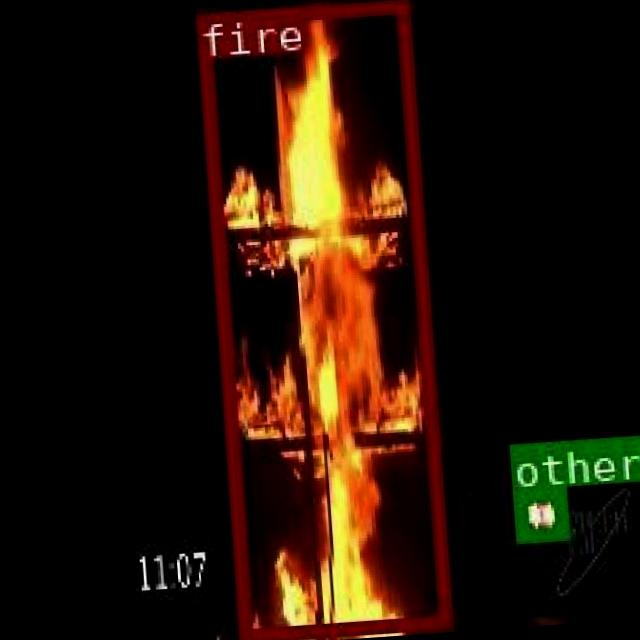fire: (193, 0, 447, 638)
